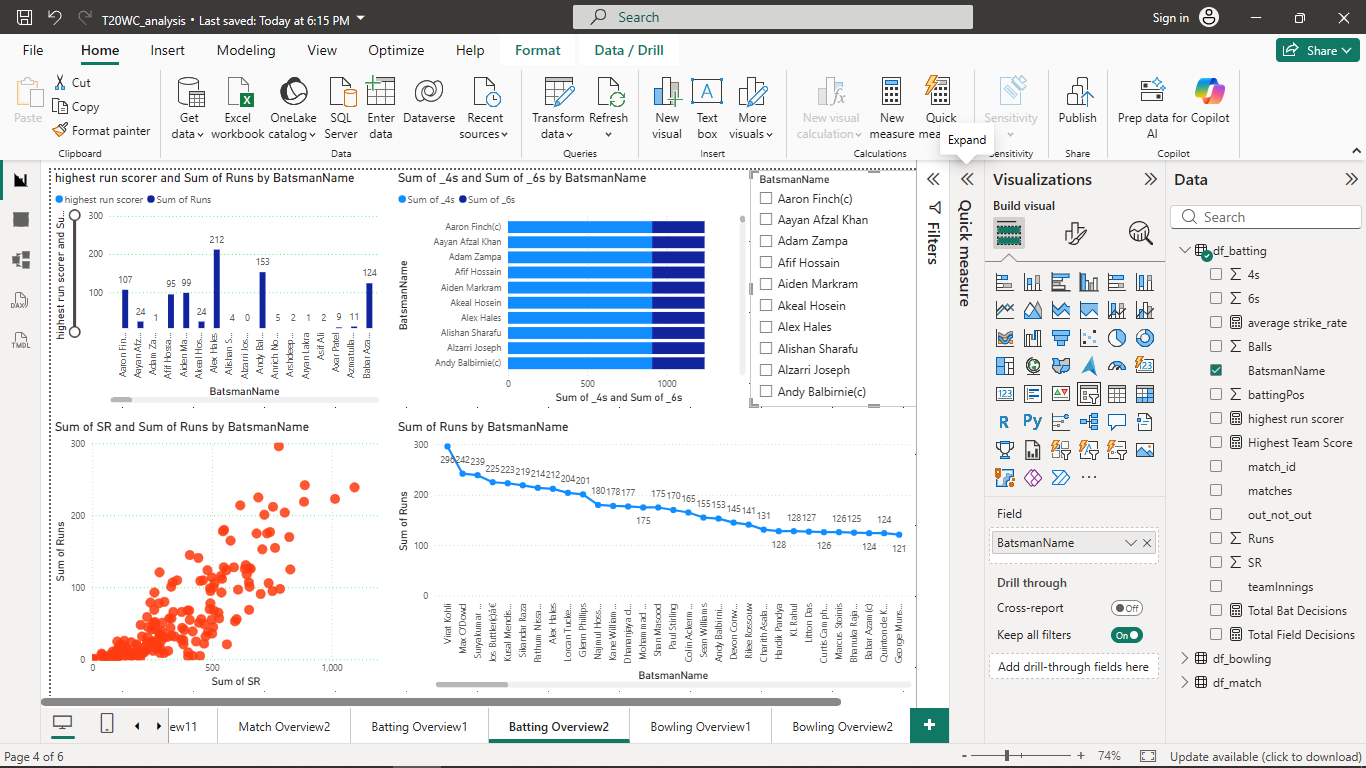

The dashboard page shown, as its layout file describes it:
{"tool":"powerbi","page":{"name":"Batting Overview2","canvas":[1280,720],"ordinal":3},"visuals":[{"type":"clusteredColumnChart","fields":{"Y":["df_batting.highest run scorer","Sum(df_batting.Runs)"],"Category":["df_batting.BatsmanName"]},"box":[0,0,448,320],"z":0},{"type":"scatterChart","fields":{"Category":["df_batting.BatsmanName"],"X":["Sum(df_batting.SR)"],"Y":["Sum(df_batting.Runs)"]},"box":[0,336,464,368],"z":1000},{"type":"slicer","fields":{"Values":["df_batting.BatsmanName"]},"box":[944,0,336,320],"z":2000},{"type":"barChart","fields":{"Category":["df_batting.BatsmanName"],"Y":["Sum(df_bowling._4s)","Sum(df_bowling._6s)"]},"box":[464,0,480,320],"z":3000},{"type":"lineChart","fields":{"Category":["df_batting.BatsmanName"],"Y":["Sum(df_batting.Runs)"]},"box":[464,336,704,368],"z":4000}]}

Visuals, with their boxes on the page's 1280x720 design canvas (x1, y1, x2, y2). These are canvas units, not pixel positions in the 1366x768 screenshot, which may show the page scaled, cropped or inside an application window:
clusteredColumnChart - df_batting.highest run scorer x Sum(df_batting.Runs): 0/0/448/320
scatterChart - df_batting.BatsmanName x Sum(df_batting.SR): 0/336/464/704
slicer - df_batting.BatsmanName: 944/0/1280/320
barChart - df_batting.BatsmanName x Sum(df_bowling._4s): 464/0/944/320
lineChart - df_batting.BatsmanName x Sum(df_batting.Runs): 464/336/1168/704
